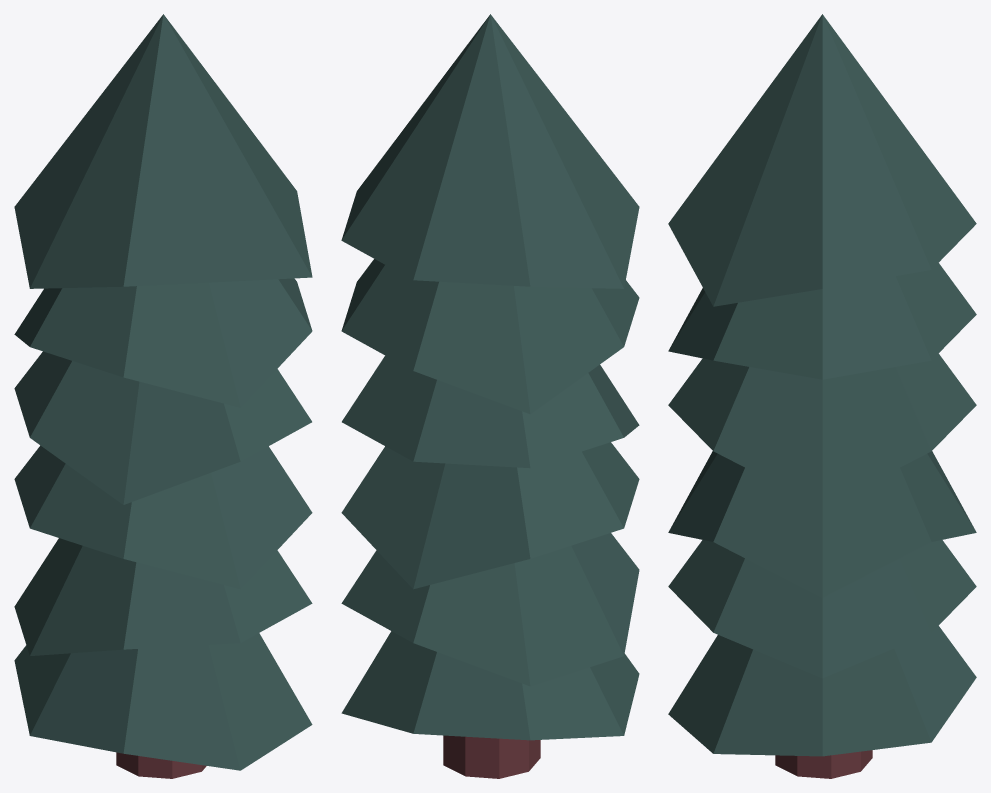
Rendered from pine 1-1.gltf.
3 views of the same model, side by side, from view 1: azimuth 30°, elevation 25°; view 2: azimuth 150°, elevation 25°; view 3: azimuth 270°, elevation 25° (orthographic).
Visible parts, largest first — view 1: Cone.066, Cone.071, Cone.067, Cone.068, Cone.069, Cone.070, Cylinder.015; view 2: Cone.066, Cone.069, Cone.067, Cone.070, Cone.071, Cone.068, Cylinder.015; view 3: Cone.066, Cone.068, Cone.071, Cone.069, Cone.070, Cone.067, Cylinder.015.
Boxes of the visible parts, x1,y1,x2,y2 form: Cone.066: (14, 14, 312, 288); Cone.071: (14, 633, 312, 770); Cone.067: (14, 278, 312, 407); Cone.068: (14, 351, 311, 504); Cone.069: (14, 445, 312, 589); Cone.070: (14, 538, 312, 655); Cylinder.015: (116, 752, 206, 778); Cone.066: (341, 14, 639, 288); Cone.069: (341, 442, 639, 589); Cone.067: (341, 259, 639, 414); Cone.070: (341, 533, 639, 686); Cone.071: (341, 631, 639, 740); Cone.068: (342, 355, 639, 468); Cylinder.015: (443, 735, 540, 778); Cone.066: (668, 14, 976, 306); Cone.068: (668, 353, 976, 507); Cone.071: (668, 625, 976, 756); Cone.069: (668, 451, 976, 597); Cone.070: (668, 540, 976, 678); Cone.067: (668, 263, 976, 379); Cylinder.015: (775, 750, 872, 778).
Bounding box in the file's own units: 6.17 × 16.41 × 6.17.
Materials: 1 (1 with a texture image).
